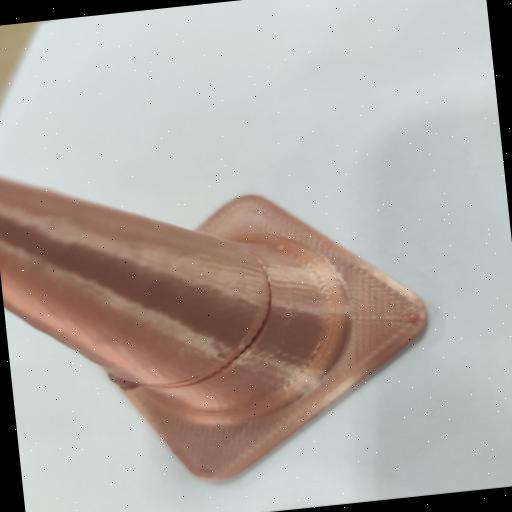cracks: (119, 260, 304, 402)
